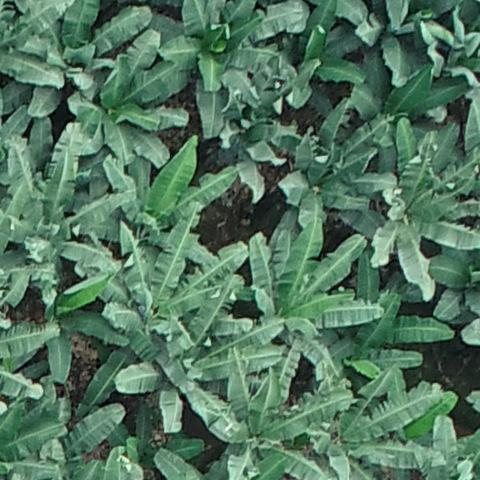Banana-plant: (105, 199, 248, 351), (124, 294, 280, 433), (238, 230, 383, 367), (372, 115, 480, 295), (0, 124, 107, 296), (201, 369, 351, 480), (103, 135, 239, 241), (27, 0, 151, 113), (320, 369, 437, 480), (74, 56, 191, 167), (283, 131, 395, 226), (350, 48, 468, 134), (357, 0, 471, 86), (163, 0, 277, 85), (36, 277, 126, 373), (280, 0, 367, 99)
